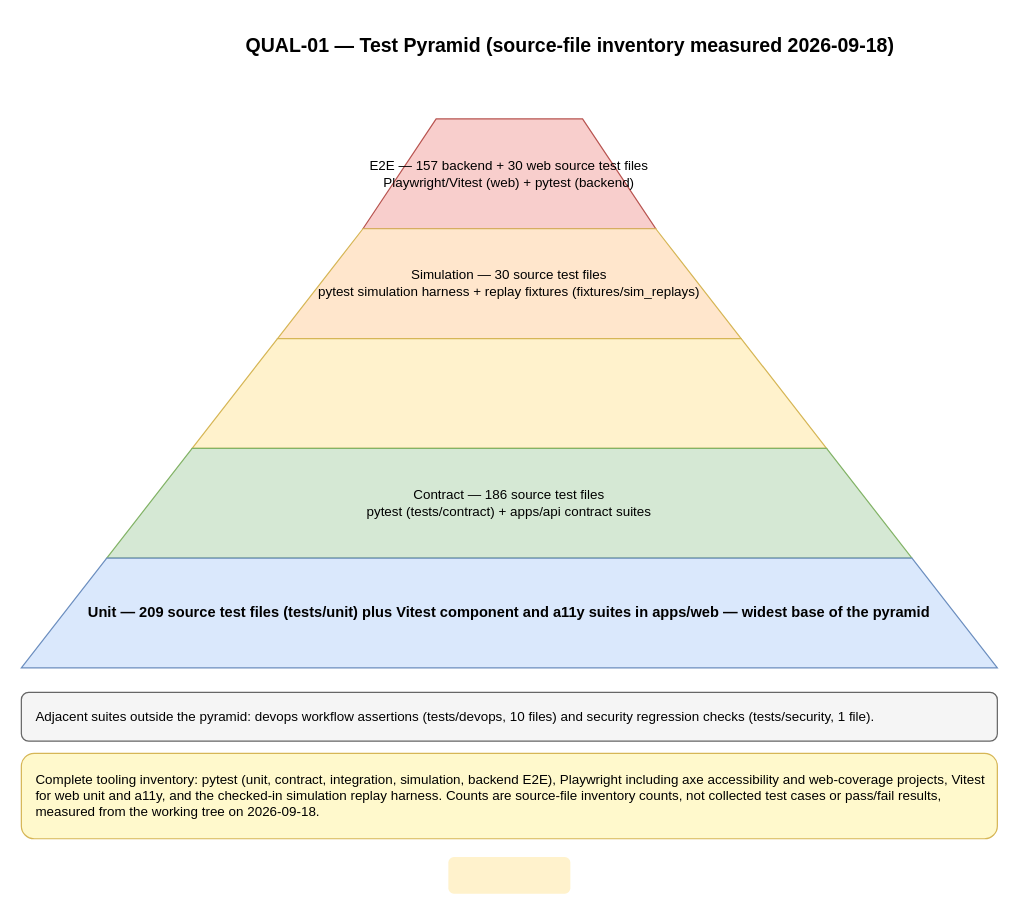
Image size: 1019x914. Some labels were removed from this diagram. The shapes that lost their labels are listed below. From the top down, each one's centre as x and y in pixels, then its label:
At (509,392): "Integration — 160 source test files pytest (tests/integration)".
At (509,874): "FR-025".
